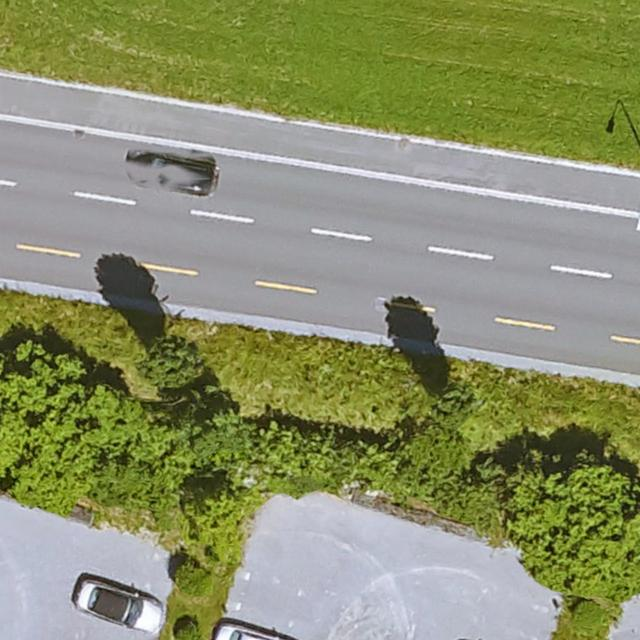tree: (514, 459, 640, 597), (139, 337, 199, 391), (437, 381, 478, 420), (175, 622, 201, 640)
